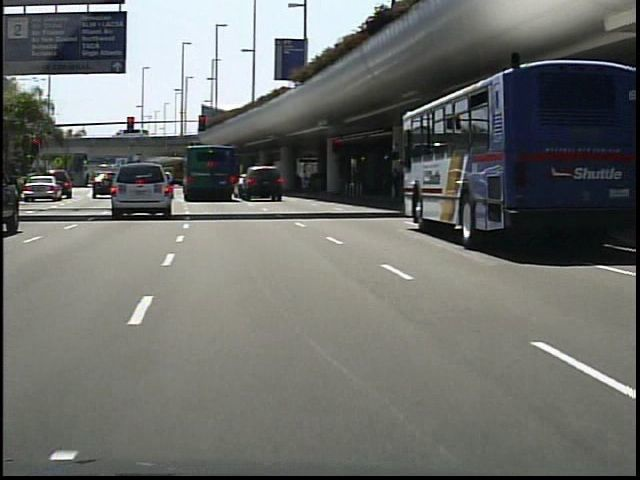person: (299, 162, 319, 199)
